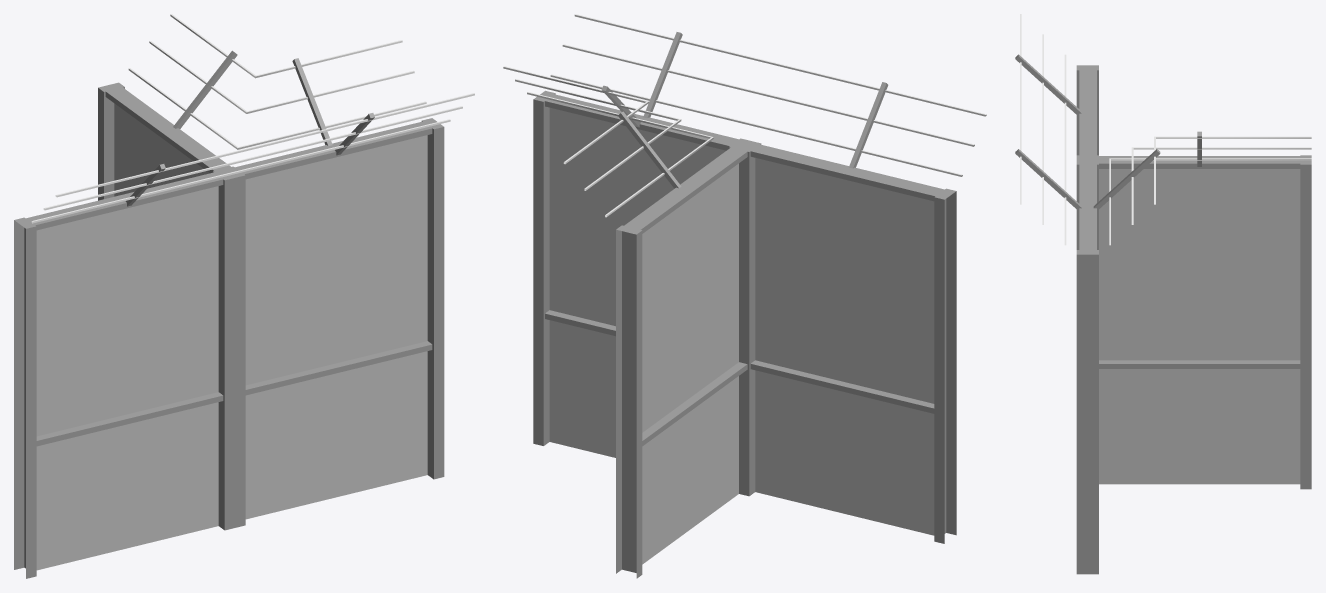
Rendered from SM_Grid_Corner_A_Right_400.FBX.
3 renders of one model, left to right at view 1: azimuth 30°, elevation 25°; view 2: azimuth 150°, elevation 25°; view 3: azimuth 270°, elevation 25°, orthographic. The views are drawn at different scales.
Parts seen in each view (by area): view 1: SM_Grid_Corner_A_Right_400; view 2: SM_Grid_Corner_A_Right_400; view 3: SM_Grid_Corner_A_Right_400.
Part boxes in pixels (box(x1,y1,x2,y2)): SM_Grid_Corner_A_Right_400: box(14, 14, 474, 578); SM_Grid_Corner_A_Right_400: box(503, 14, 986, 578); SM_Grid_Corner_A_Right_400: box(1015, 14, 1311, 574).
Bounding box in the file's own units: 400 × 265 × 377.
